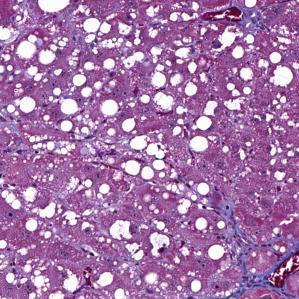fibrosis: (224, 208, 281, 270)
